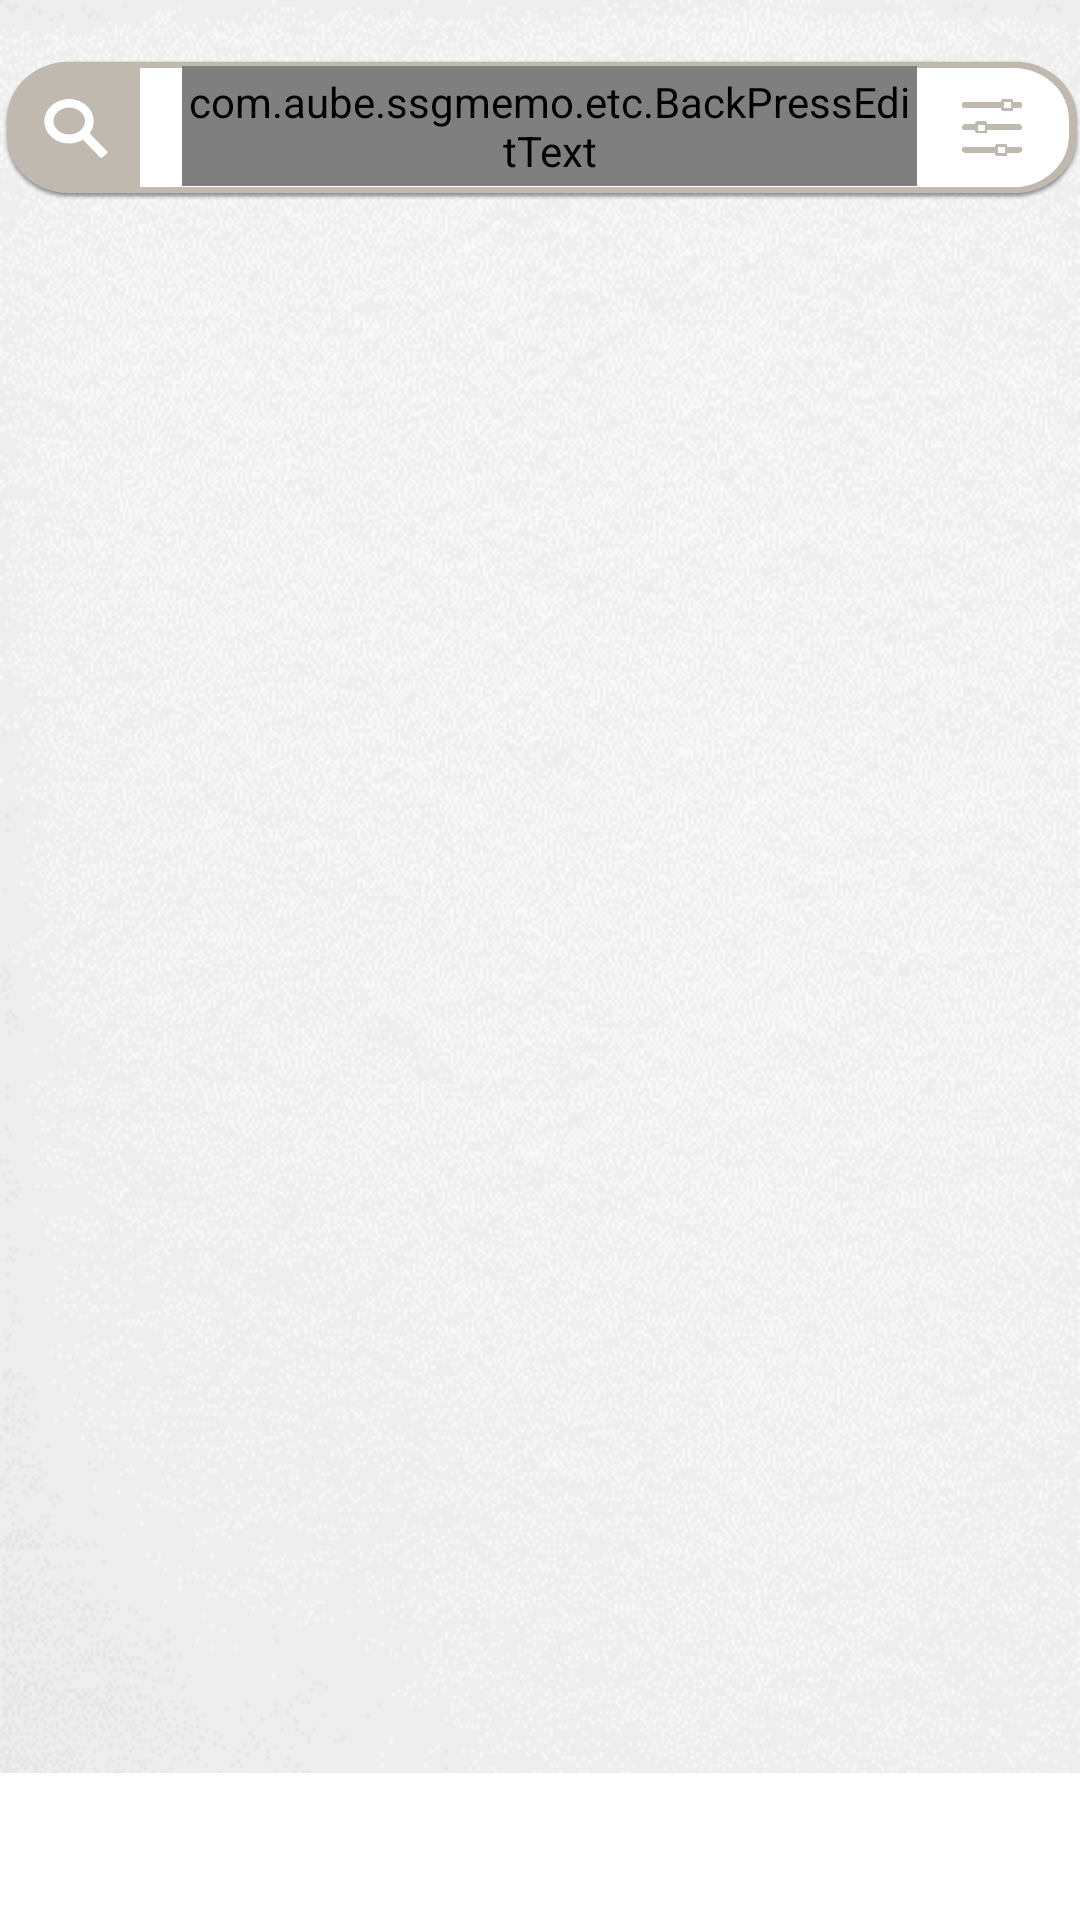

Screen size 1080w x 1920h. Icon name, then its center in pixels as (x,y):
grayfilter: (992,127)
